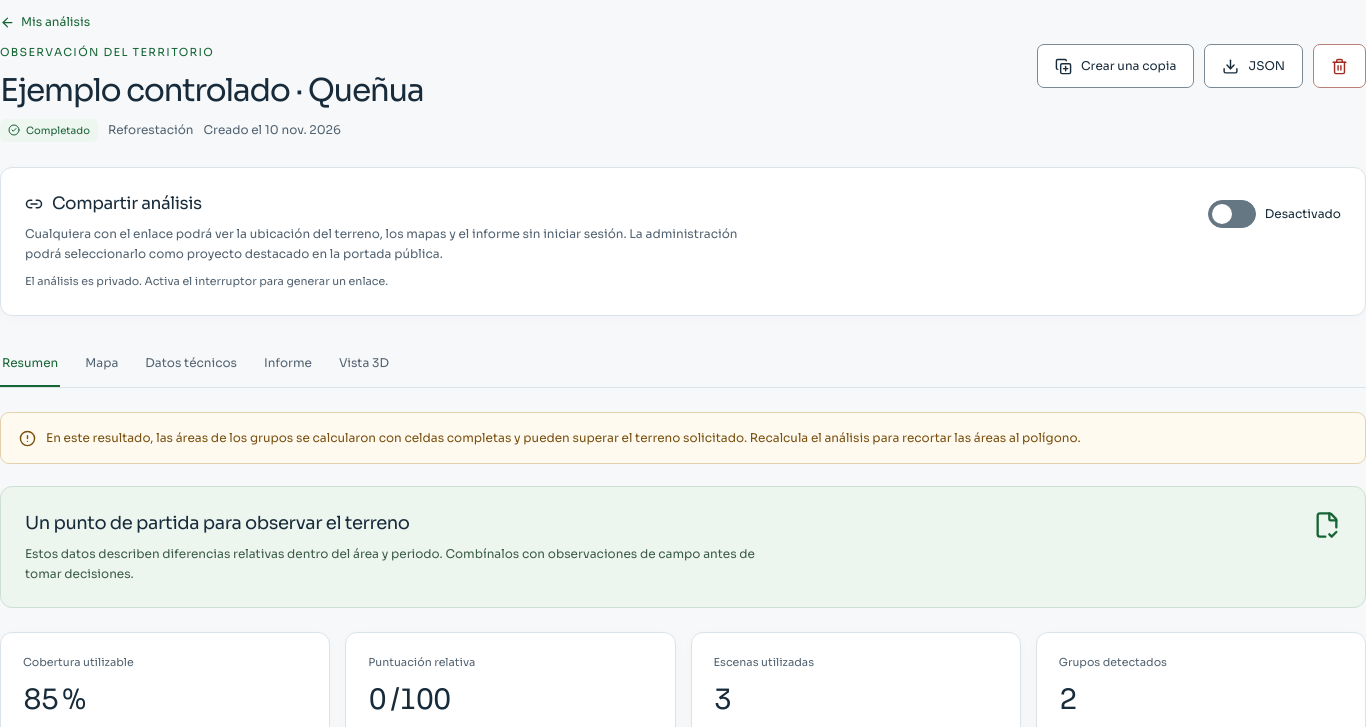
Test: Sharing an analysis › keeps the switch unchanged when saving fails and prevents duplicate submissions
Later steps or results of the test are not shown.
Double-click the switch named "Compartir por enlace" at (1232, 214), box [1208,200,1256,228]
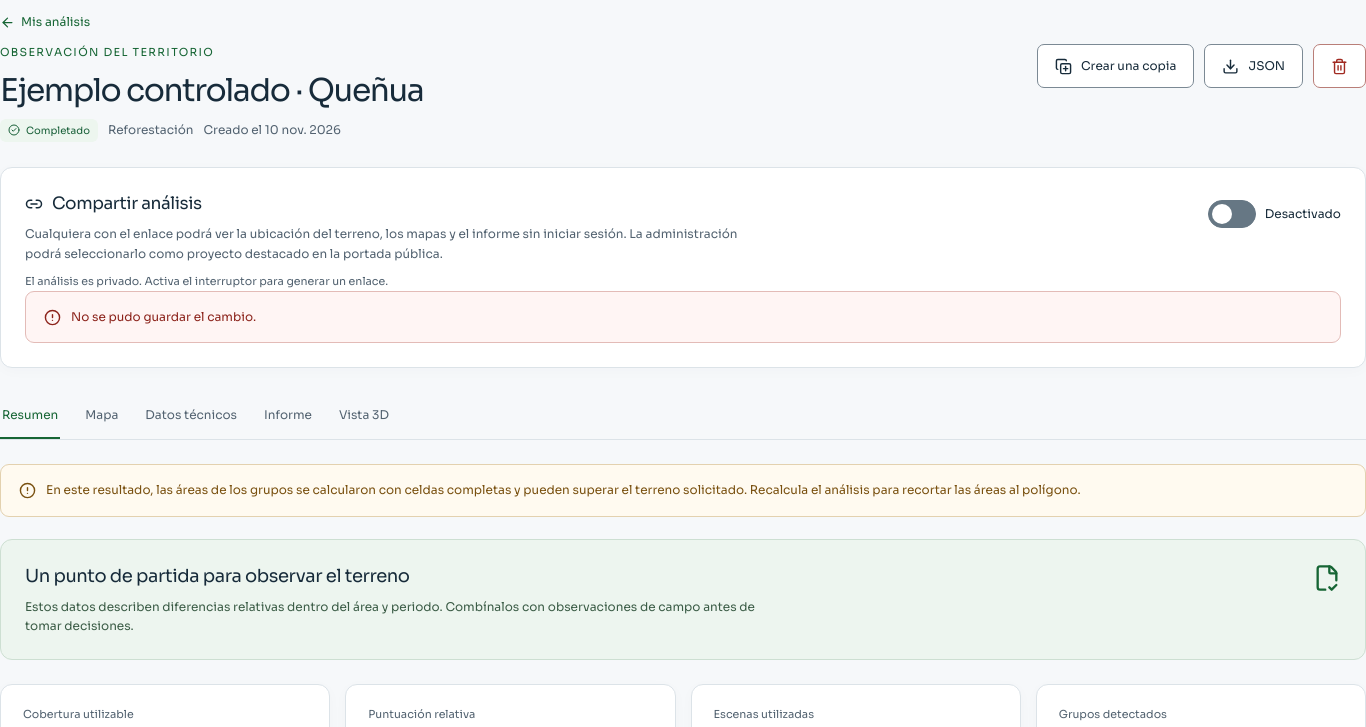
Expected: the message reads "No se pudo guardar el cambio.", [71,309,256,324]
